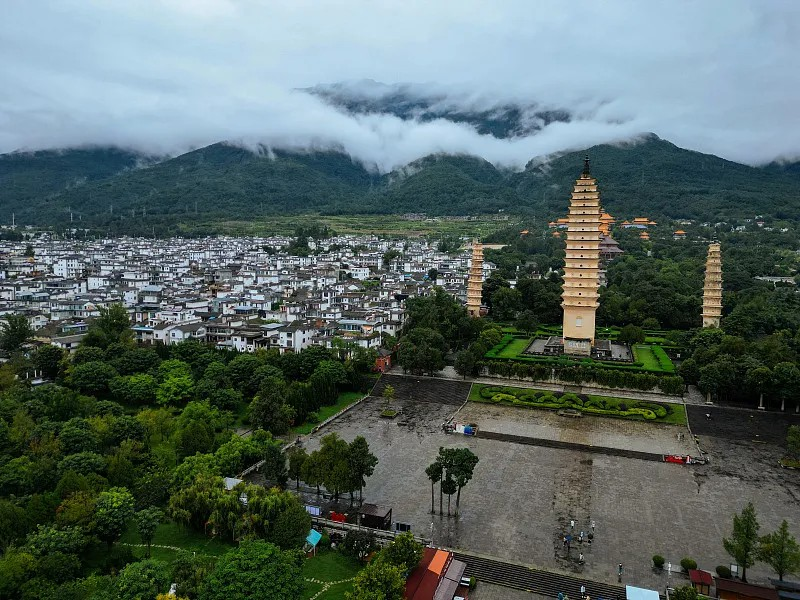ThreePagoda: (560, 153, 600, 345)
